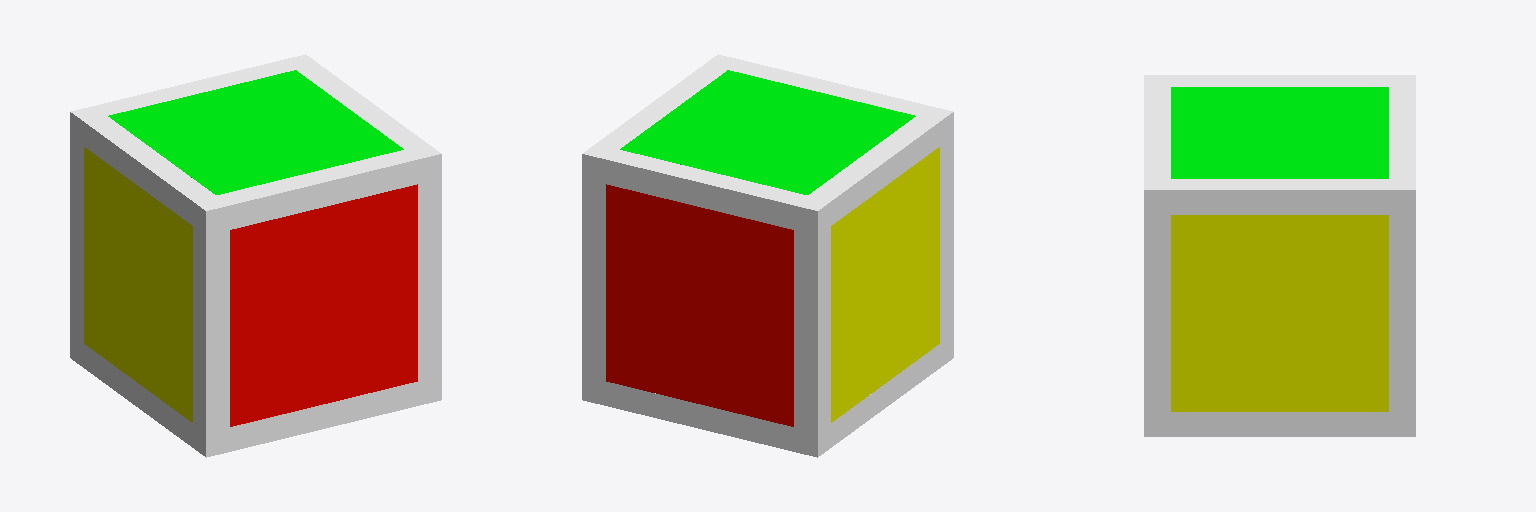
Rendered from tinker.obj.
The picture shows the model from 3 angles: view 1: azimuth 30°, elevation 25°; view 2: azimuth 150°, elevation 25°; view 3: azimuth 270°, elevation 25°; orthographic projection.
Visible parts, largest first — view 1: obj_0; view 2: obj_0; view 3: obj_0.
Part boxes in pixels (bbox=[...]): obj_0: bbox=[70, 54, 441, 457]; obj_0: bbox=[582, 54, 953, 457]; obj_0: bbox=[1144, 75, 1415, 436].
Size of the model in its own units: 100 by 100 by 100.